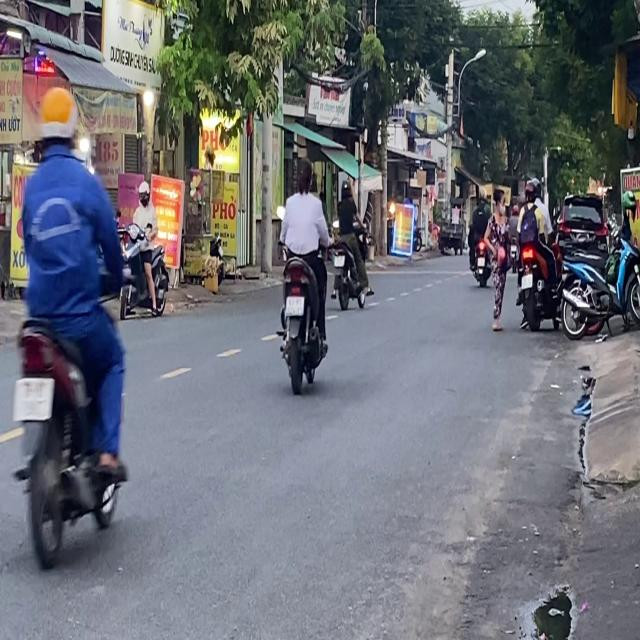helmet: (36, 85, 79, 157), (522, 180, 536, 203), (138, 180, 150, 205), (531, 176, 542, 200)
licenseplate: (8, 82, 132, 569), (274, 156, 331, 391), (514, 175, 562, 332), (120, 179, 169, 319), (330, 178, 370, 310)
motorcyclist: (295, 157, 313, 193)
nohelmet: (13, 377, 52, 418), (286, 296, 304, 316), (521, 274, 533, 290)
